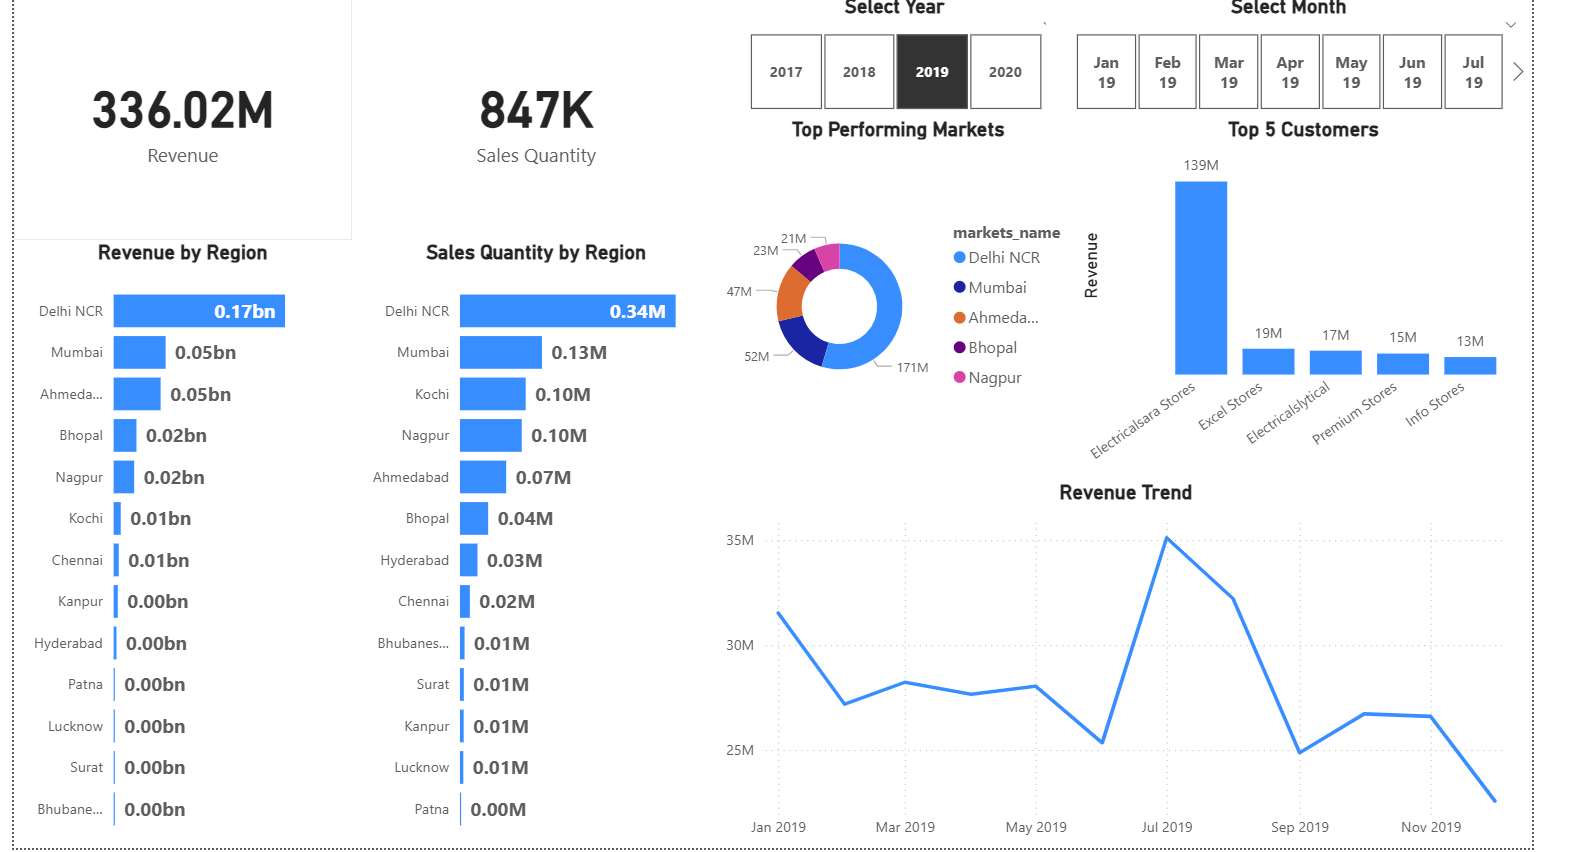

What the dashboard file says about the page in this screenshot:
{"tool":"powerbi","page":{"name":"Page 1","canvas":[1280,720],"ordinal":0},"visuals":[{"type":"card","fields":{"Values":["BaseMeasures.Revenue"]},"box":[0,0,284.8,207.1],"z":0},{"type":"card","fields":{"Values":["BaseMeasures.Sales Quantity"]},"box":[284.8,0,310.7,207.1],"z":1000},{"type":"barChart","title":"Revenue by Region","fields":{"Y":["BaseMeasures.Revenue"],"Category":["sales markets.markets_name"]},"box":[0,207.1,284.8,512.9],"z":2000},{"type":"barChart","title":"Sales Quantity by Region","fields":{"Y":["BaseMeasures.Sales Quantity"],"Category":["sales markets.markets_name"]},"box":[284.8,207.1,310.7,512.9],"z":3000},{"type":"slicer","title":"Select Year","fields":{"Values":["sales date.year"]},"box":[595.4,0,294.5,103.6],"z":4000},{"type":"slicer","title":"Select Month","fields":{"Values":["sales date.cy_date"]},"box":[870.5,0,409.3,103.6],"z":5000},{"type":"lineChart","title":"Revenue Trend","fields":{"Y":["BaseMeasures.Revenue"],"Category":["sales date.cy_date.Variation.Date Hierarchy.Year","sales date.cy_date.Variation.Date Hierarchy.Quarter","sales date.cy_date.Variation.Date Hierarchy.Month","sales date.cy_date.Variation.Date Hierarchy.Day"]},"box":[595.4,409.3,684.4,310.7],"z":6000},{"type":"clusteredColumnChart","title":"Top 5 Customers","fields":{"Category":["sales customers.custmer_name"],"Y":["BaseMeasures.Revenue"]},"box":[895.8,103.9,383.6,306.1],"z":7000},{"type":"donutChart","title":"Top Performing Markets","fields":{"Y":["BaseMeasures.Revenue"],"Category":["sales markets.markets_name"]},"box":[595.3,103.9,300.5,300.5],"z":8000}]}

Visuals, with their boxes in screenshot pixels (x1, y1, x2, y2):
card - BaseMeasures.Revenue: {"x1": 124, "y1": 4, "x2": 456, "y2": 246}
card - BaseMeasures.Sales Quantity: {"x1": 456, "y1": 4, "x2": 819, "y2": 246}
"Revenue by Region" barChart: {"x1": 124, "y1": 246, "x2": 456, "y2": 845}
"Sales Quantity by Region" barChart: {"x1": 456, "y1": 246, "x2": 819, "y2": 845}
"Select Year" slicer: {"x1": 819, "y1": 4, "x2": 1162, "y2": 125}
"Select Month" slicer: {"x1": 1140, "y1": 4, "x2": 1580, "y2": 125}
"Revenue Trend" lineChart: {"x1": 819, "y1": 482, "x2": 1580, "y2": 845}
"Top 5 Customers" clusteredColumnChart: {"x1": 1169, "y1": 125, "x2": 1580, "y2": 483}
"Top Performing Markets" donutChart: {"x1": 818, "y1": 125, "x2": 1169, "y2": 476}
